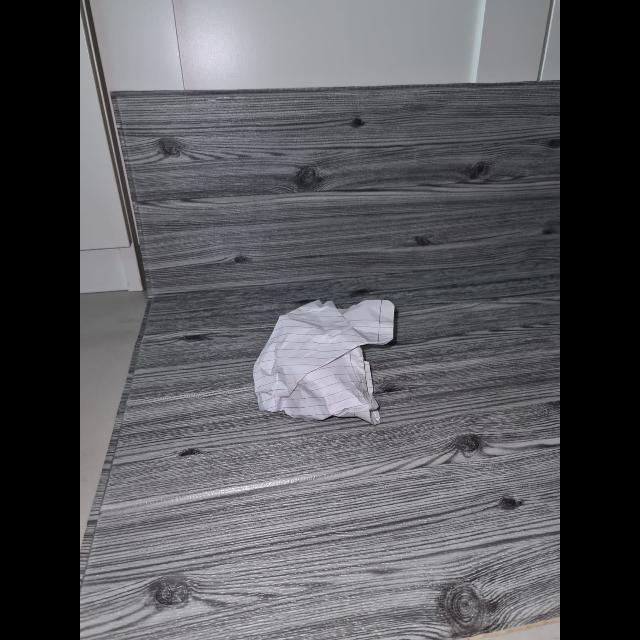scrap_paper: (250, 295, 402, 417)
